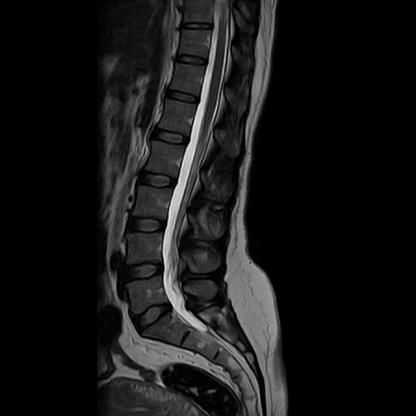Disc Bulgerotation: (124, 261, 162, 285), (133, 307, 173, 326)
